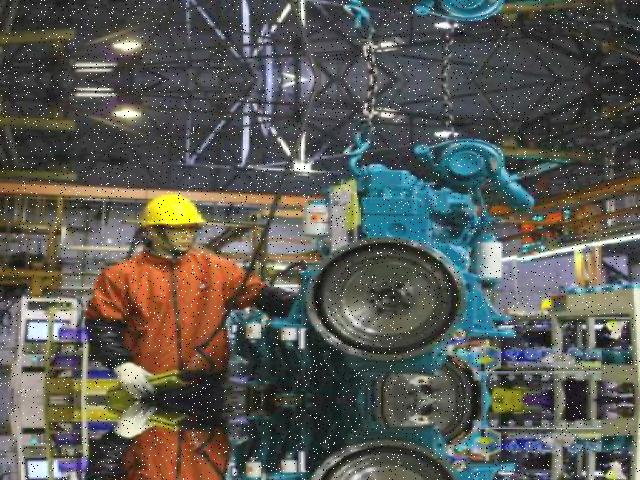Helmet: (130, 190, 207, 236)
